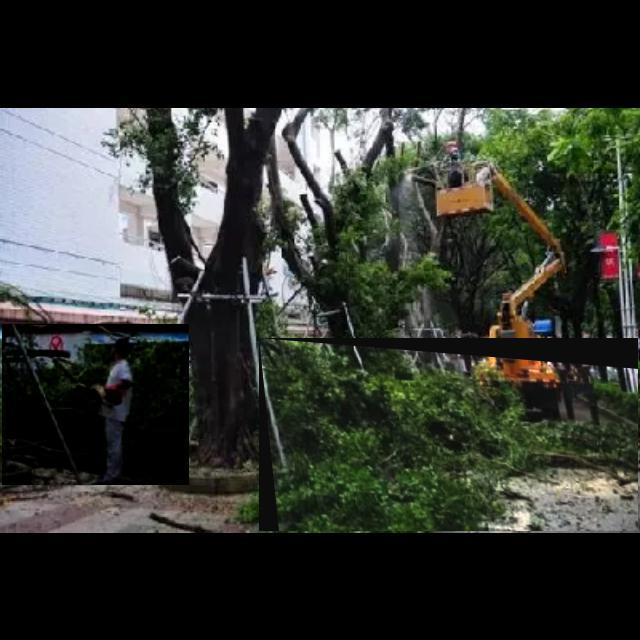fallen_tree: (259, 338, 639, 532), (2, 324, 190, 486)
